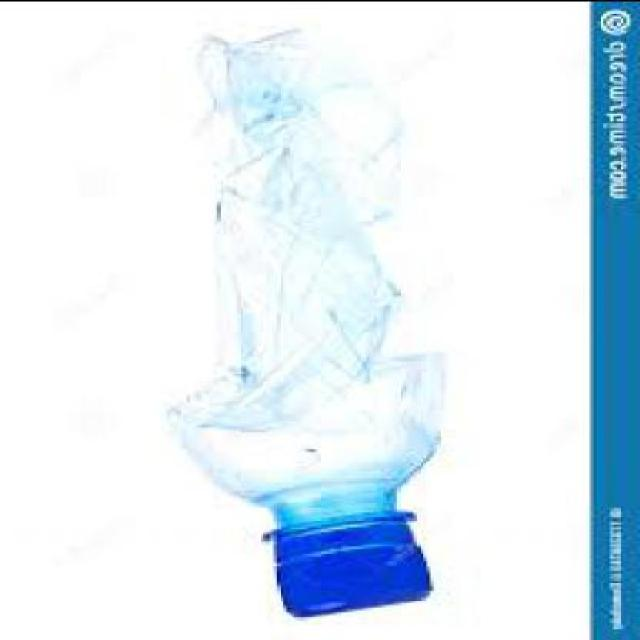PLASTIC: (166, 22, 440, 613), (260, 506, 429, 614)
